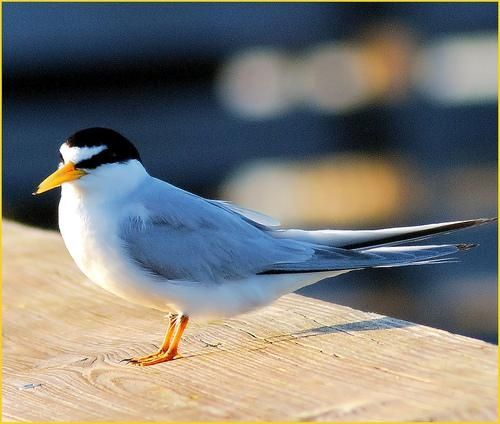bird: (29, 126, 495, 363)
